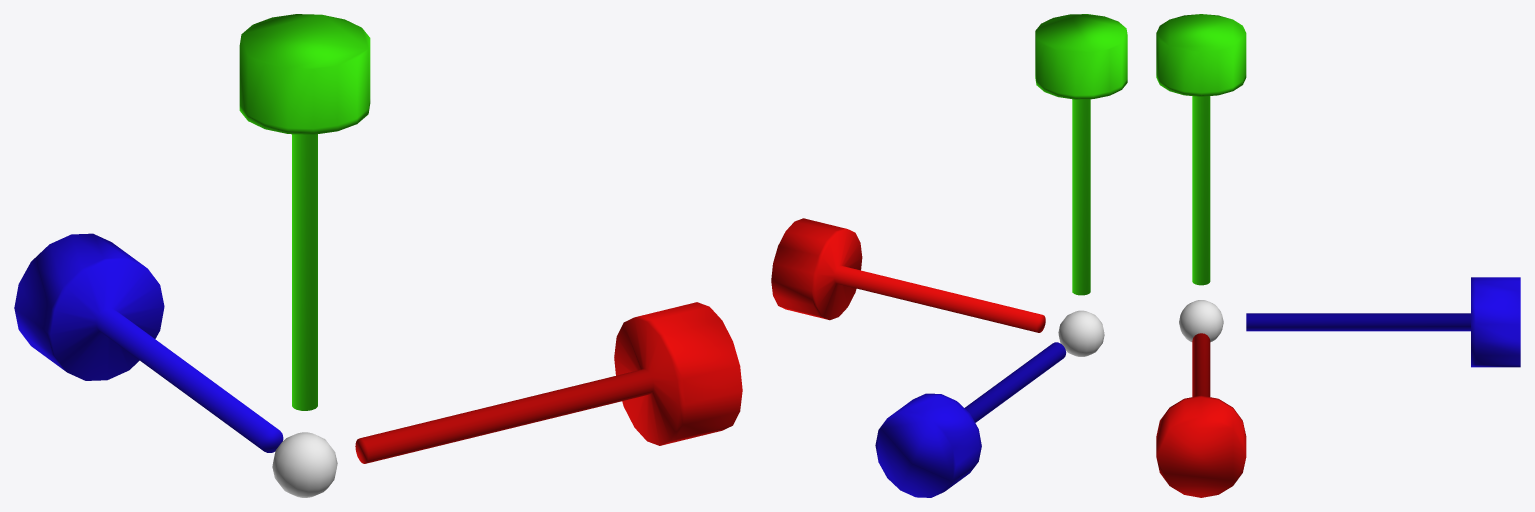
Rendered from scale_mesh.glb.
3 renders of one model, left to right at view 1: azimuth 30°, elevation 25°; view 2: azimuth 150°, elevation 25°; view 3: azimuth 270°, elevation 25°, orthographic. The views are drawn at different scales.
Parts seen in each view (by area): view 1: X, Y, Z, Free; view 2: X, Y, Z, Free; view 3: Y, Z, X, Free.
Boxes of the visible parts, x1,y1,x2,y2 form: X: (355, 302, 742, 463); Y: (239, 14, 370, 410); Z: (14, 233, 283, 452); Free: (272, 432, 337, 497); X: (771, 218, 1045, 332); Y: (1035, 14, 1127, 295); Z: (875, 342, 1066, 497); Free: (1058, 310, 1104, 356); Y: (1156, 14, 1246, 285); Z: (1246, 277, 1520, 367); X: (1156, 333, 1246, 497); Free: (1179, 300, 1223, 342).
Bounding box in the file's own units: 8.1 × 8.1 × 8.1.
